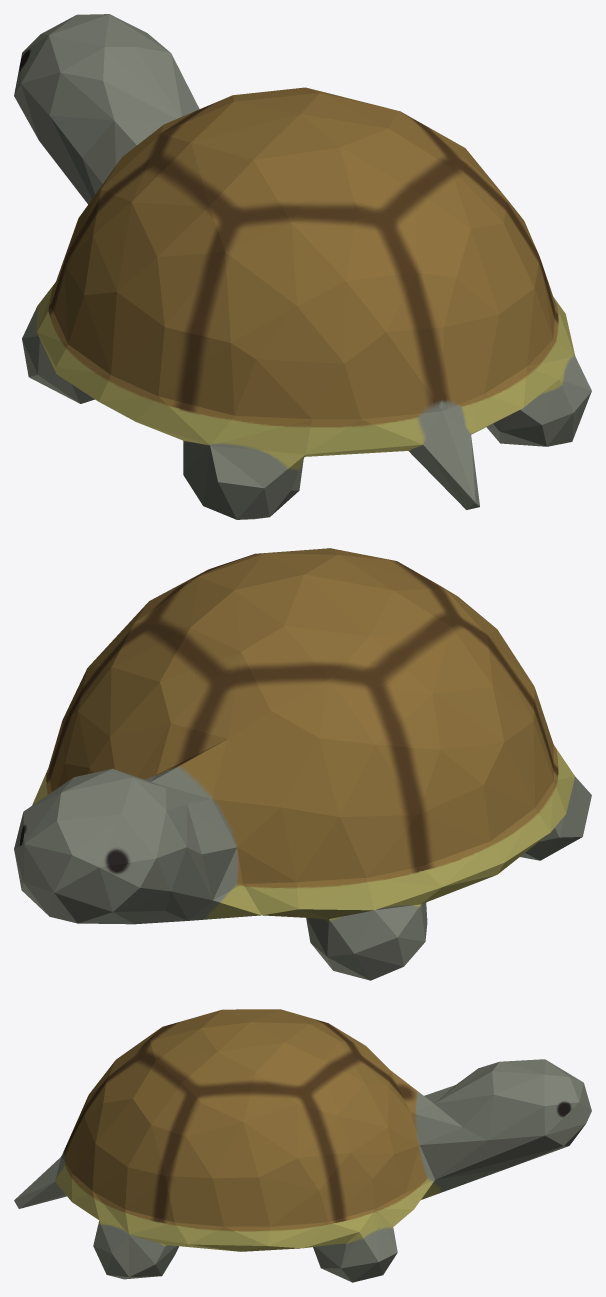
File: animal_tortoise_blob.obj
3 renders of one model, top to bottom at view 1: azimuth 30°, elevation 25°; view 2: azimuth 150°, elevation 25°; view 3: azimuth 270°, elevation 25°, orthographic. The views are drawn at different scales.
Parts seen in each view (by area): view 1: animal_tortoise_blob; view 2: animal_tortoise_blob; view 3: animal_tortoise_blob.
Boxes of the visible parts, <box> form: animal_tortoise_blob: <box>14,14,591,519</box>; animal_tortoise_blob: <box>14,548,591,980</box>; animal_tortoise_blob: <box>14,1009,591,1282</box>.
Size of the model in its own units: 0.5318 by 0.3368 by 0.8639.
